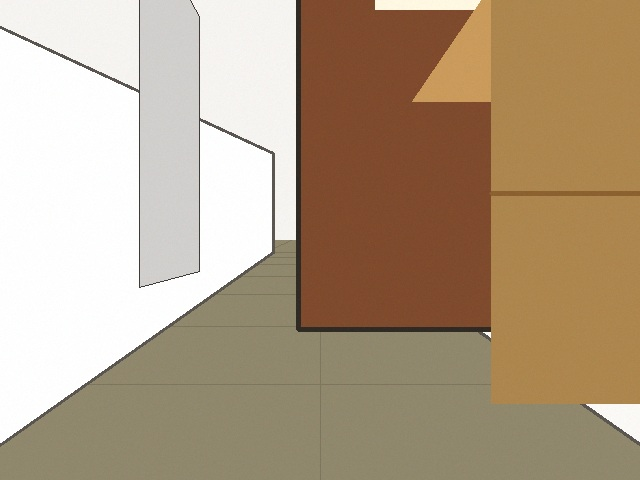box: (412, 0, 639, 403)
charging_station: (331, 176, 389, 273)
directional_sign: (385, 181, 435, 212)
door: (298, 0, 605, 329)
